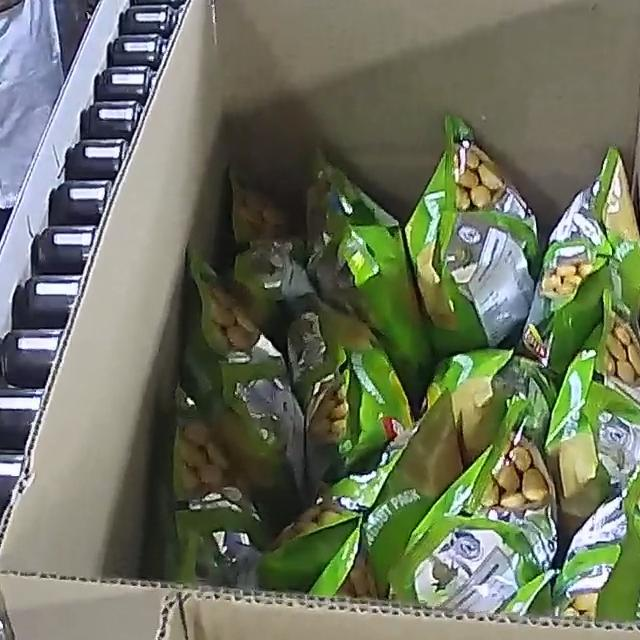yogurt: (166, 113, 640, 624)
